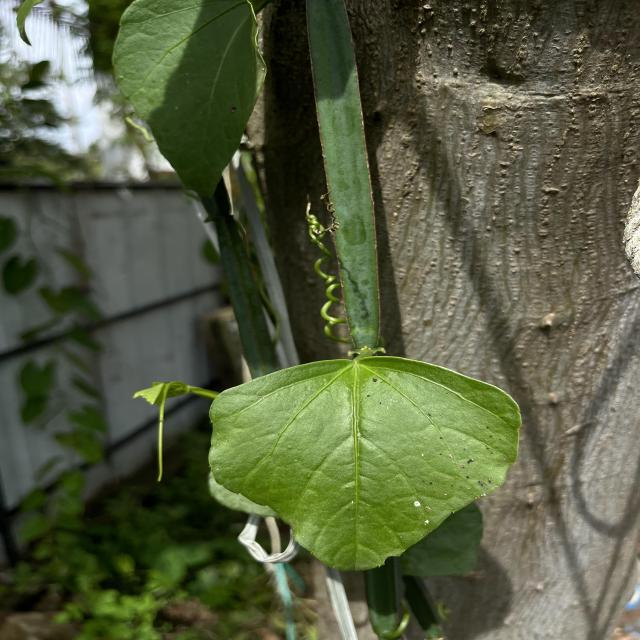Cissus quadrangularis: (204, 352, 526, 575)
